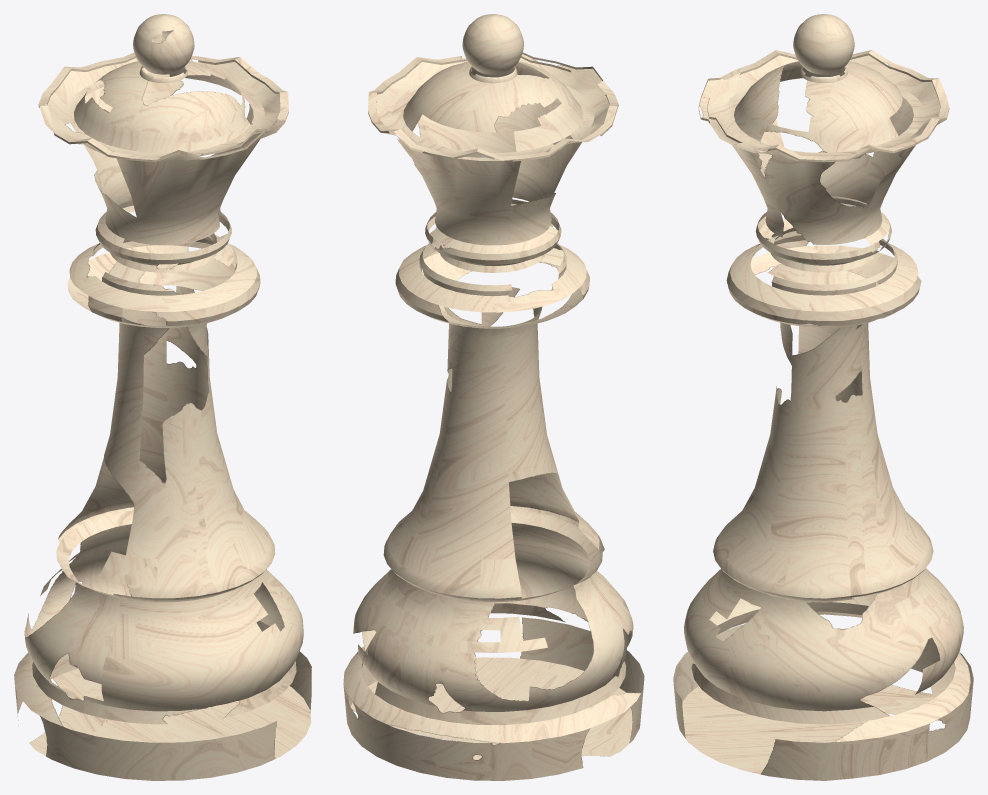
File: Queen.fbx
The picture shows the model from 3 angles, left to right: view 1: azimuth 30°, elevation 25°; view 2: azimuth 150°, elevation 25°; view 3: azimuth 270°, elevation 25°; orthographic projection.
Parts seen in each view (by area): view 1: Black queen; view 2: Black queen; view 3: Black queen.
Part boxes in pixels (left/top/right/bottom): Black queen: left=14, top=14, right=311, bottom=780; Black queen: left=343, top=14, right=644, bottom=780; Black queen: left=673, top=14, right=973, bottom=780.
Bounding box in the file's own units: 265 × 675 × 262.
